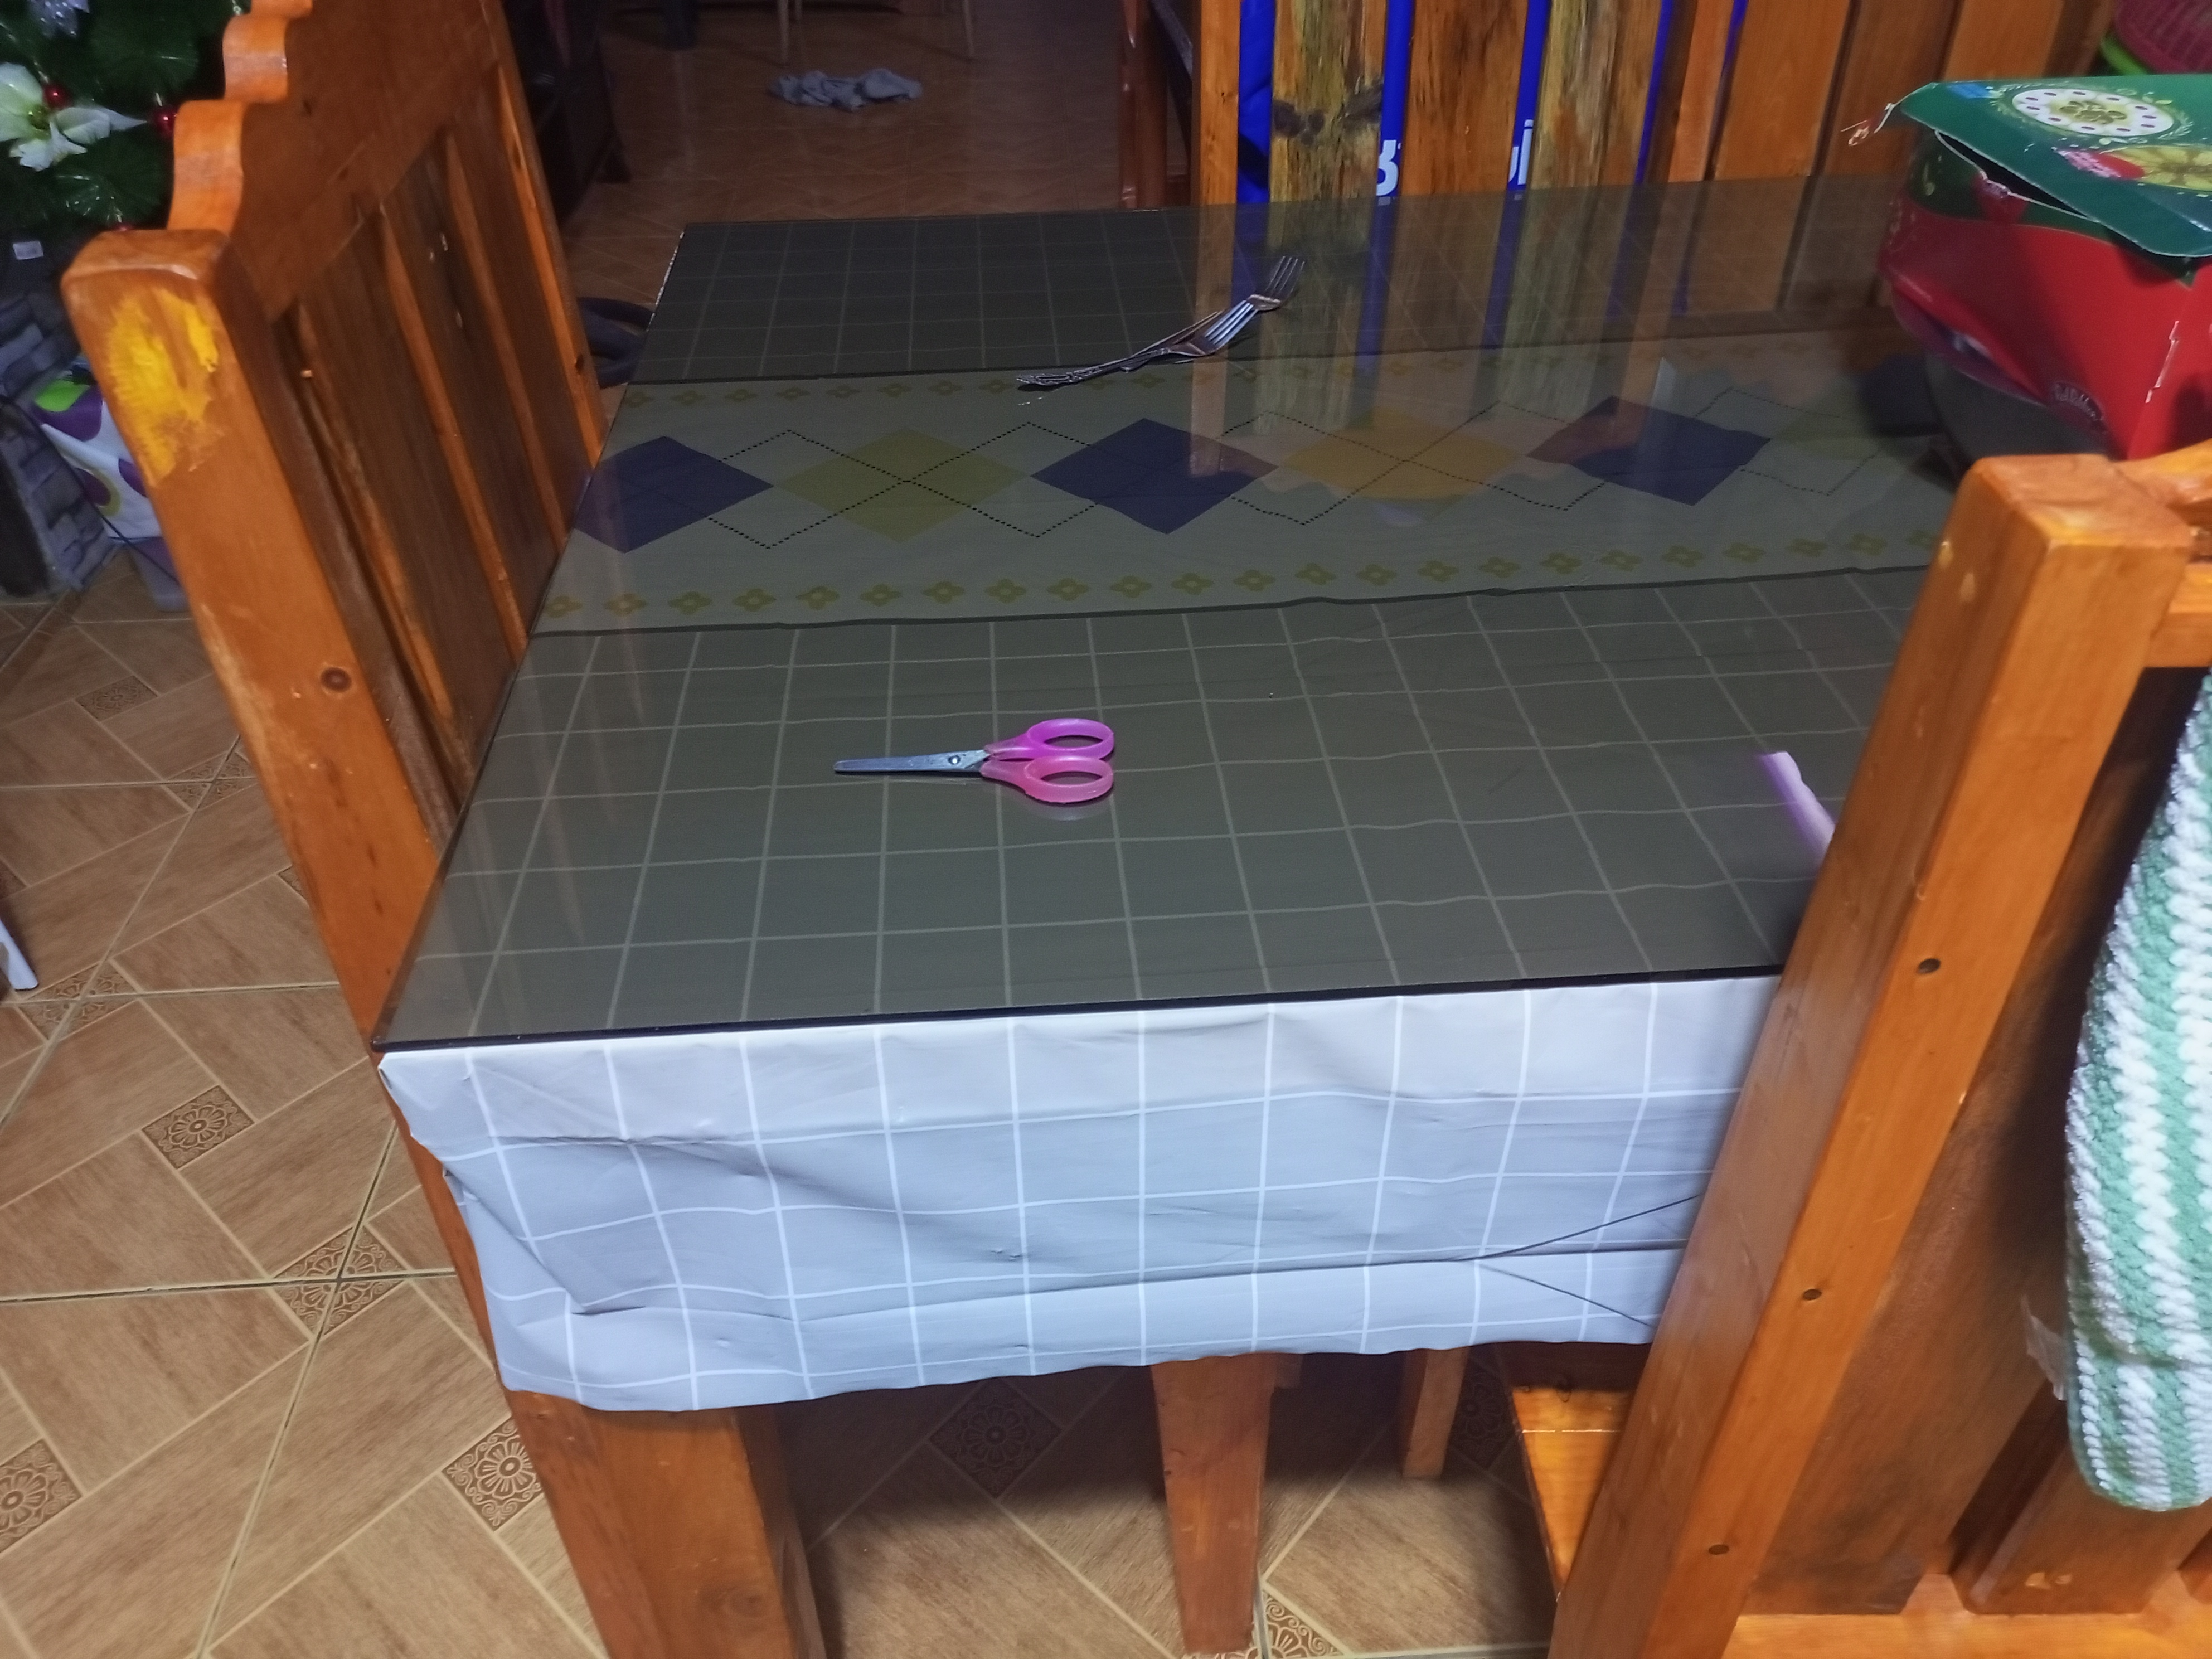scissor: (841, 723, 1123, 809)
